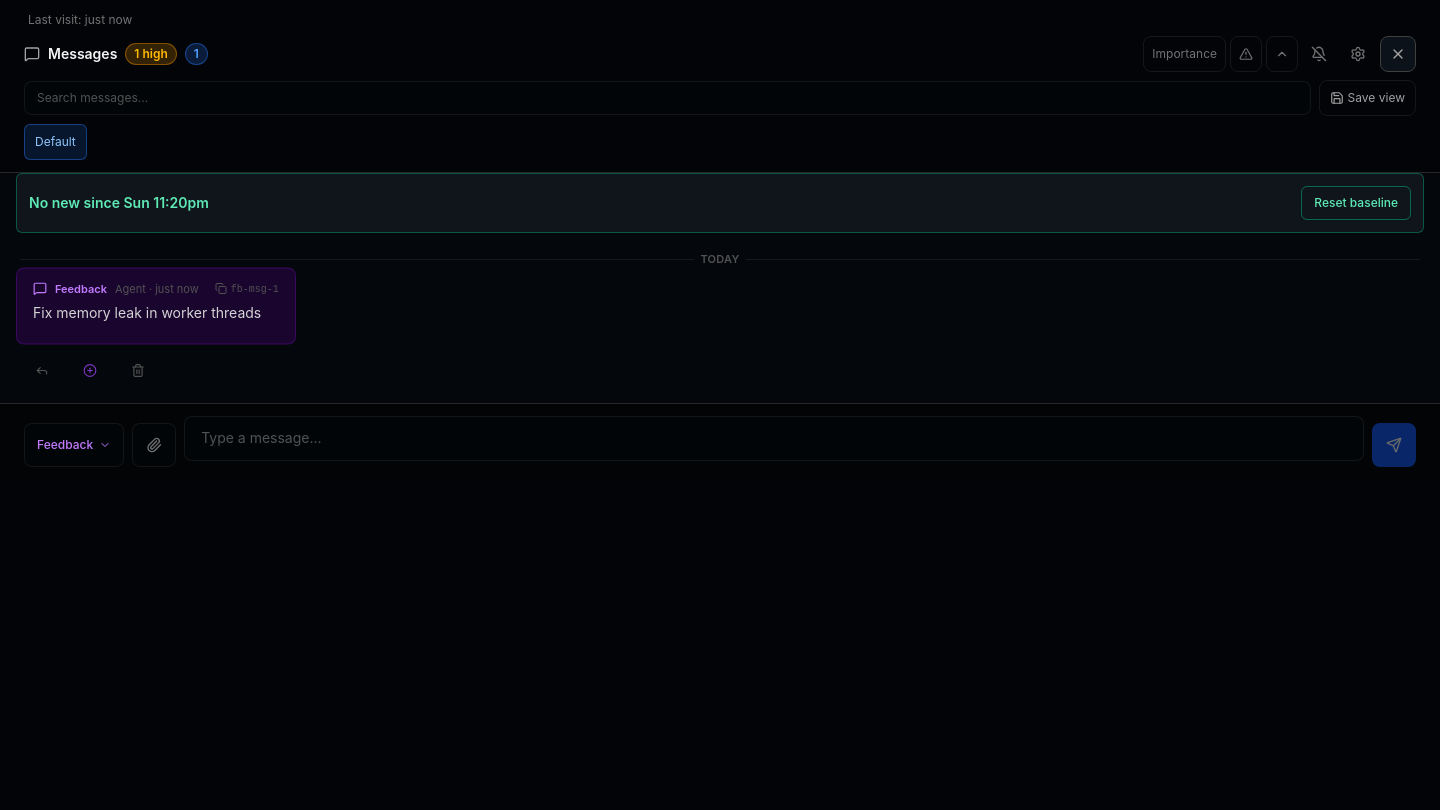
Scenario: MessagesPanel convert-to-direction modal › closing the modal via Cancel resets the form
// Open the modal
Click the button named "Create Direction". click: click(90, 371)
box: [68,349,112,393]
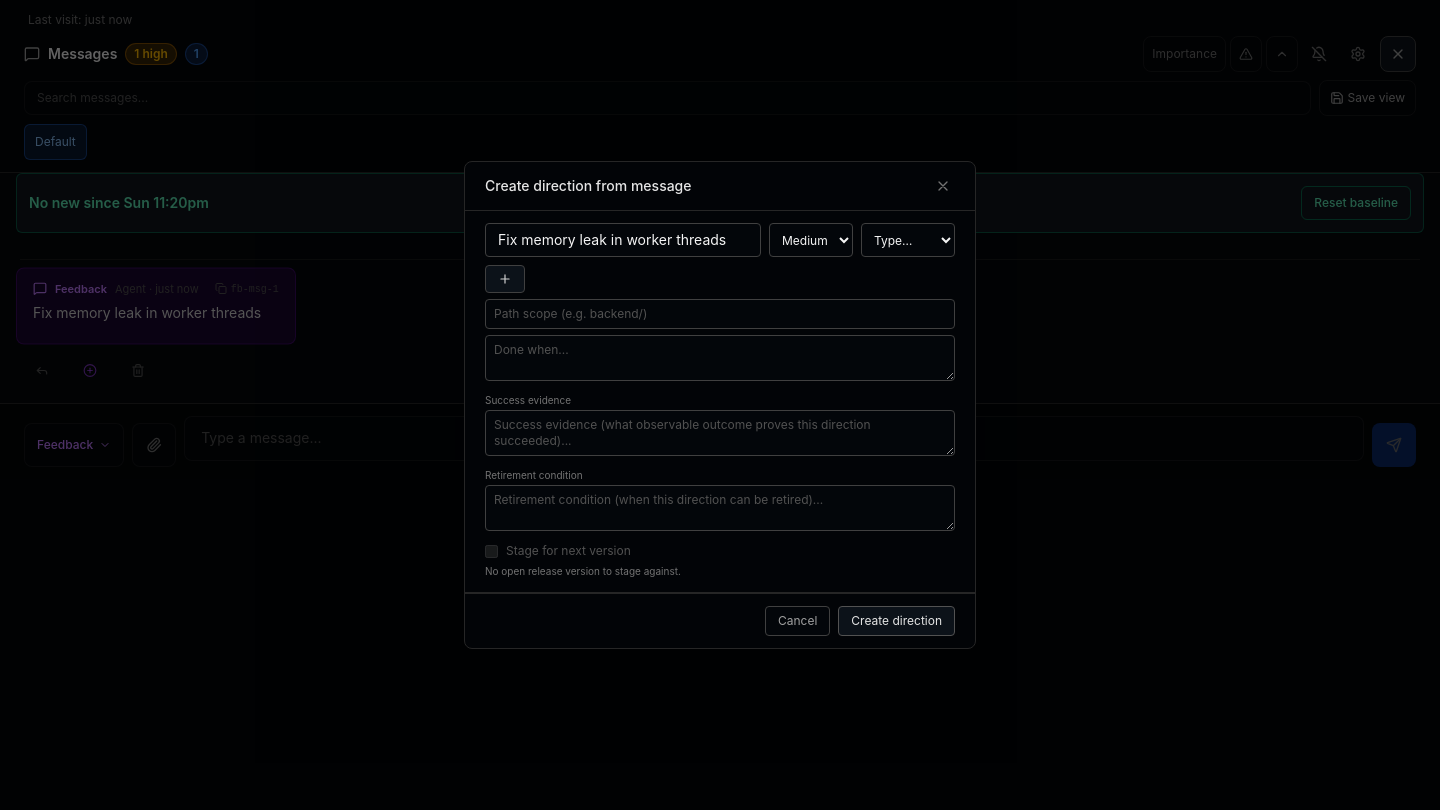
Now the dialog is shown
Now the button "Cancel" is shown
Click the button "Cancel". click: click(798, 621)
box: [765,606,830,636]
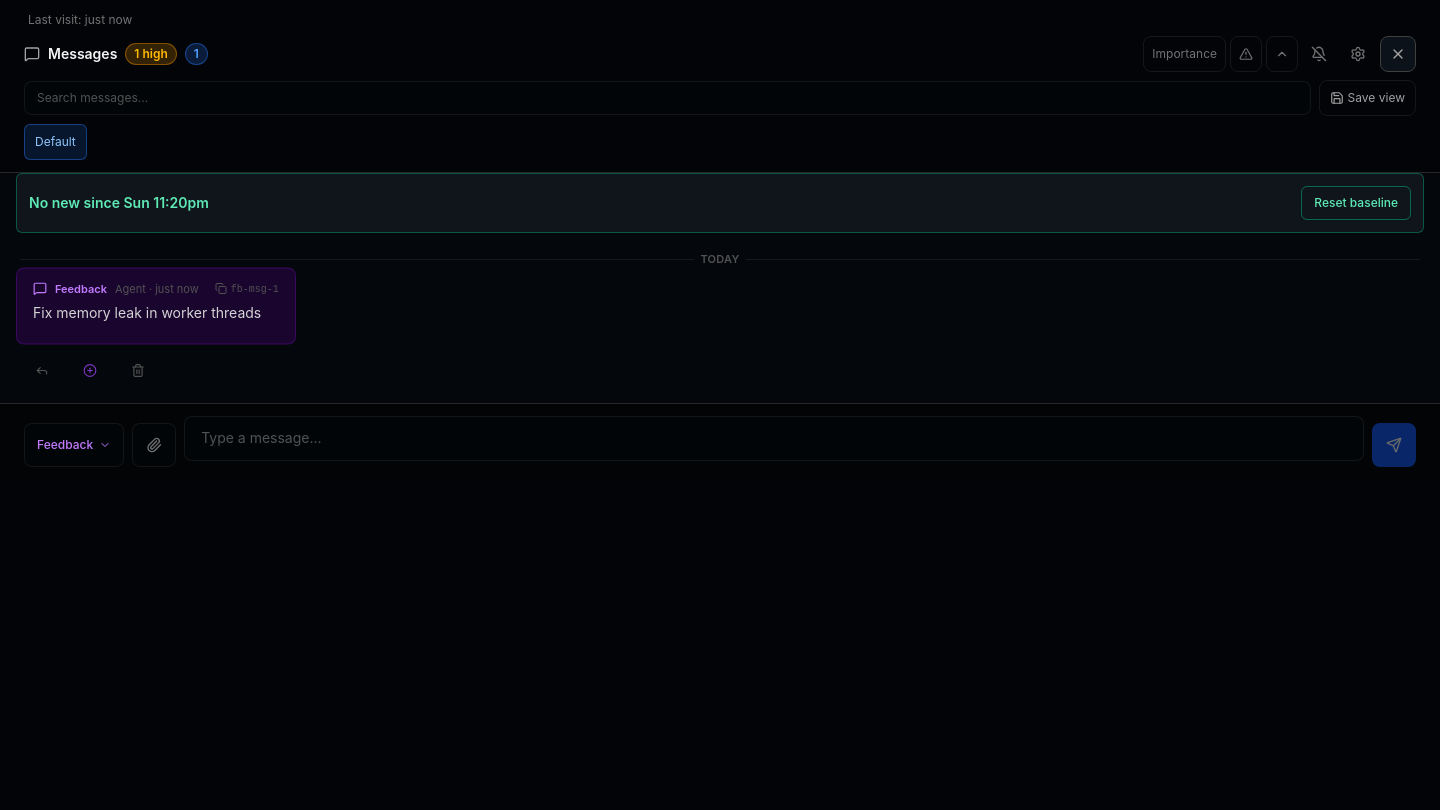
Now the dialog is gone
